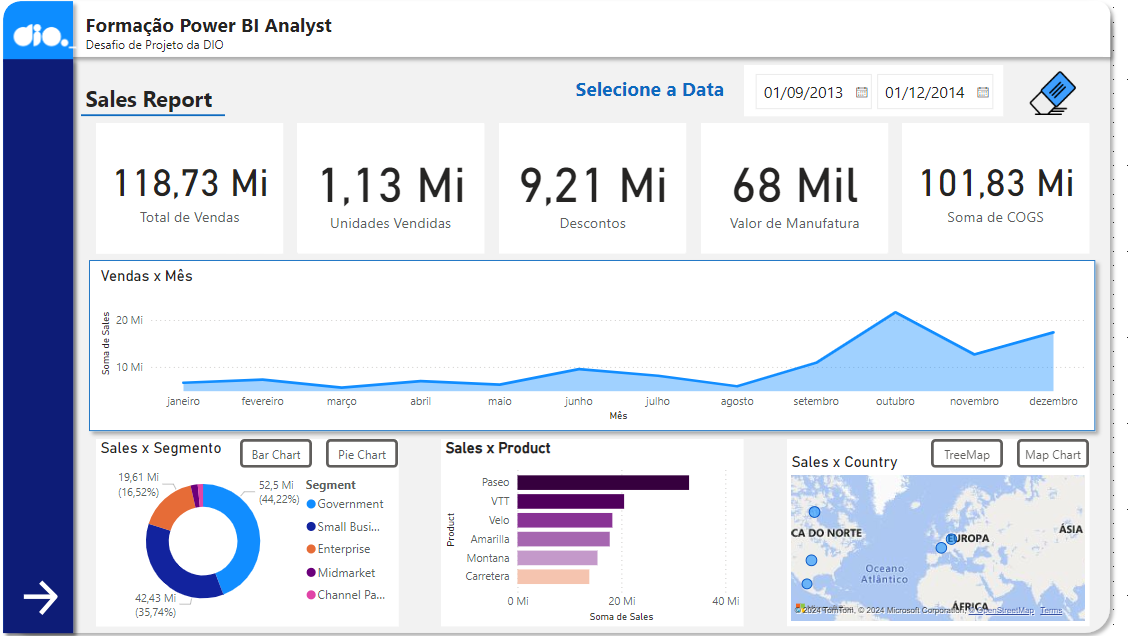

The page's visual inventory and layout, read from the dashboard file:
{"tool":"powerbi","page":{"name":"Página 1","canvas":[1280,720],"ordinal":0},"visuals":[{"type":"image","box":[1136,80,80,64],"z":0,"group":"g2"},{"type":"clusteredBarChart","title":"Sales x Segment - Bar","fields":{"Category":["financials.Segment"],"Y":["Sum(financials. Sales)"]},"box":[112,496,336,208],"z":0,"group":"g3"},{"type":"map","title":"Sales x Country","fields":{"Size":["Sum(financials. Sales)"],"Category":["financials.Country"]},"box":[880,512,336,192],"z":0,"group":"g4"},{"type":"shape","title":"Background","box":[0,0,1248,720],"z":500,"group":"g1"},{"type":"shape","box":[112,145.8,207,144],"z":750,"group":"g1"},{"type":"group","id":"g1","title":"Grupo 1","box":[0,0,1248,720],"z":1000},{"type":"actionButton","box":[1136,80,80,64],"z":1000,"group":"g2"},{"type":"shape","box":[336.2,145.8,207,144],"z":1000,"group":"g1"},{"type":"donutChart","title":"Sales x Segmento","fields":{"Y":["Sum(financials. Sales)"],"Category":["financials.Segment"]},"box":[112,496,336,208],"z":1000,"group":"g3"},{"type":"actionButton","title":"Botão - Bar","box":[272,496,80,32],"z":1500,"group":"g3"},{"type":"actionButton","title":"Botão - TreeMap","box":[1040,496,80,32],"z":1500,"group":"g4"},{"type":"textbox","box":[96,96,176,64],"z":2000},{"type":"shape","box":[560.5,145.8,207,144],"z":2000,"group":"g1"},{"type":"actionButton","title":"Botão - Pie","box":[368,496,80,32],"z":2000,"group":"g3"},{"type":"actionButton","title":"Botão - Map","box":[1136,496,80,32],"z":2000,"group":"g4"},{"type":"shape","box":[784.8,145.8,207,144],"z":3000,"group":"g1"},{"type":"areaChart","title":"Vendas x Mês","fields":{"Category":["financials.Date.Variation.Hierarquia de datas.Mês"],"Y":["Sum(financials. Sales)"]},"box":[112,304,1104,176],"z":3000},{"type":"shape","box":[1009,145.8,207,144],"z":4000,"group":"g1"},{"type":"clusteredBarChart","title":"Sales x Product","fields":{"Y":["Sum(financials. Sales)"],"Category":["financials.Product"]},"box":[496,496,336,208],"z":4000},{"type":"slicer","fields":{"Values":["financials.Date"]},"box":[832,80,288,57],"z":5000},{"type":"shape","box":[112,496,336,208],"z":5000,"group":"g1"},{"type":"textbox","box":[640,87,240,80],"z":6000},{"type":"shape","box":[496,496,336,208],"z":6000,"group":"g1"},{"type":"group","id":"g2","title":"Botão Eraser","box":[1136,80,80,64],"z":7000},{"type":"shape","box":[32,0,1216,80],"z":7250,"group":"g1"},{"type":"shape","box":[0,0,96,720],"z":7500,"group":"g1"},{"type":"shape","box":[0,64,96,656],"z":8000,"group":"g1"},{"type":"card","fields":{"Values":["Sum(financials. Sales)"]},"box":[112,144,208,145],"z":8000},{"type":"card","fields":{"Values":["Sum(financials.Discounts)"]},"box":[560,144,208,144],"z":9000},{"type":"card","fields":{"Values":["Sum(financials.COGS)"]},"box":[1008,144,208,144],"z":10000},{"type":"shape","box":[880,496,336,208],"z":10000,"group":"g1"},{"type":"card","fields":{"Values":["Sum(financials.Manufacturing Price)"]},"box":[784,144,208,144],"z":11000},{"type":"shape","box":[96,288,1136,208],"z":11000,"group":"g1"},{"type":"shape","box":[96,128,160,16],"z":12000,"group":"g1"},{"type":"card","fields":{"Values":["Sum(financials.Units Sold)"]},"box":[336,144,208,144],"z":12000},{"type":"image","box":[16,16,80,64],"z":13000,"group":"g1"},{"type":"group","id":"g3","title":"Sales x Segment","box":[112,496,336,208],"z":13000},{"type":"textbox","box":[96,16,448,464],"z":14000,"group":"g1"},{"type":"group","id":"g4","title":"Sales x Country","box":[880,496,336,208],"z":14000},{"type":"actionButton","title":"Botão - Seta","box":[25,640,48,64],"z":15000}]}

Visuals, with their boxes in screenshot pixels (x1, y1, x2, y2), scaled from the page's 1280x720 canvas onto the 1130x636 screenshot:
image: box(1003, 71, 1074, 127)
"Sales x Segment - Bar" clusteredBarChart: box(99, 438, 396, 622)
"Sales x Country" map: box(777, 452, 1074, 622)
"Background" shape: box(0, 0, 1102, 635)
shape: box(99, 129, 282, 256)
"Grupo 1" group: box(0, 0, 1102, 635)
actionButton: box(1003, 71, 1074, 127)
shape: box(297, 129, 480, 256)
"Sales x Segmento" donutChart: box(99, 438, 396, 622)
"Botão - Bar" actionButton: box(240, 438, 311, 466)
"Botão - TreeMap" actionButton: box(918, 438, 989, 466)
textbox: box(85, 85, 240, 141)
shape: box(495, 129, 678, 256)
"Botão - Pie" actionButton: box(325, 438, 396, 466)
"Botão - Map" actionButton: box(1003, 438, 1074, 466)
shape: box(693, 129, 876, 256)
"Vendas x Mês" areaChart: box(99, 269, 1074, 424)
shape: box(891, 129, 1074, 256)
"Sales x Product" clusteredBarChart: box(438, 438, 734, 622)
slicer - financials.Date: box(734, 71, 989, 121)
shape: box(99, 438, 396, 622)
textbox: box(565, 77, 777, 148)
shape: box(438, 438, 734, 622)
"Botão Eraser" group: box(1003, 71, 1074, 127)
shape: box(28, 0, 1102, 71)
shape: box(0, 0, 85, 635)
shape: box(0, 57, 85, 635)
card - Sum(financials. Sales): box(99, 127, 282, 255)
card - Sum(financials.Discounts): box(494, 127, 678, 254)
card - Sum(financials.COGS): box(890, 127, 1074, 254)
shape: box(777, 438, 1074, 622)
card - Sum(financials.Manufacturing Price): box(692, 127, 876, 254)
shape: box(85, 254, 1088, 438)
shape: box(85, 113, 226, 127)
card - Sum(financials.Units Sold): box(297, 127, 480, 254)
image: box(14, 14, 85, 71)
"Sales x Segment" group: box(99, 438, 396, 622)
textbox: box(85, 14, 480, 424)
"Sales x Country" group: box(777, 438, 1074, 622)
"Botão - Seta" actionButton: box(22, 565, 64, 622)
